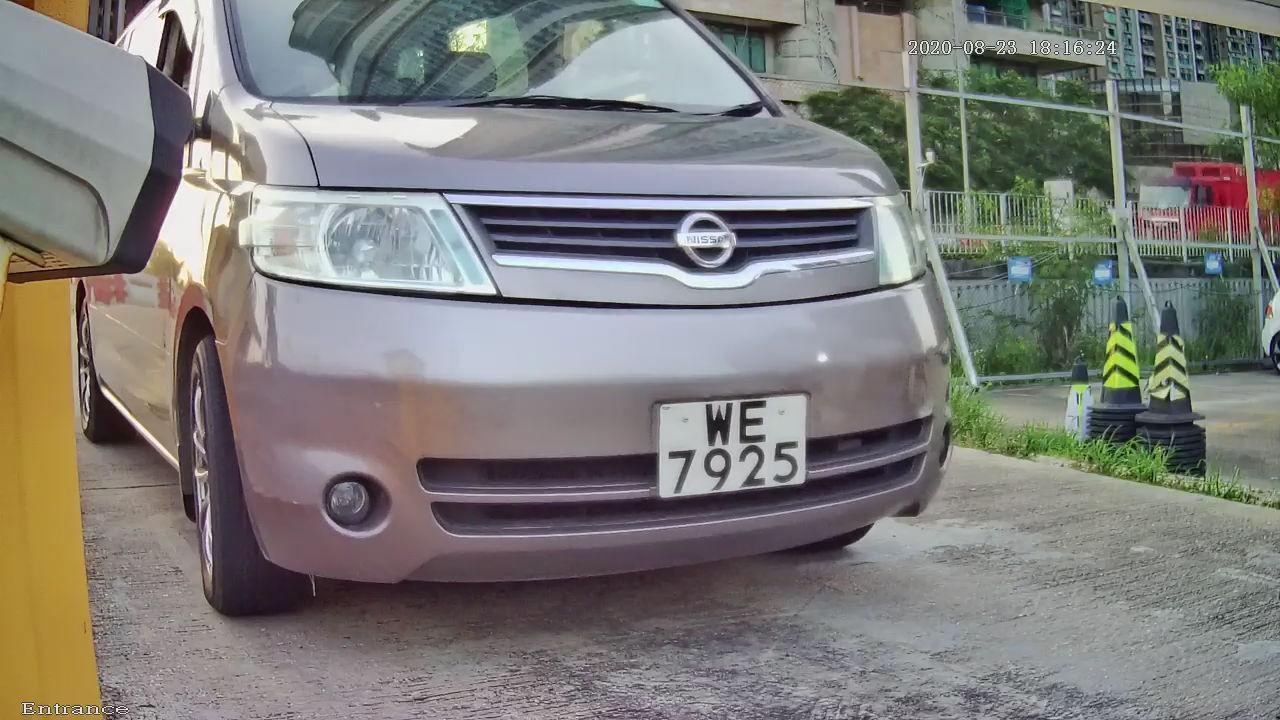Car: (52, 10, 1069, 631)
License Plate: (646, 380, 829, 512)
